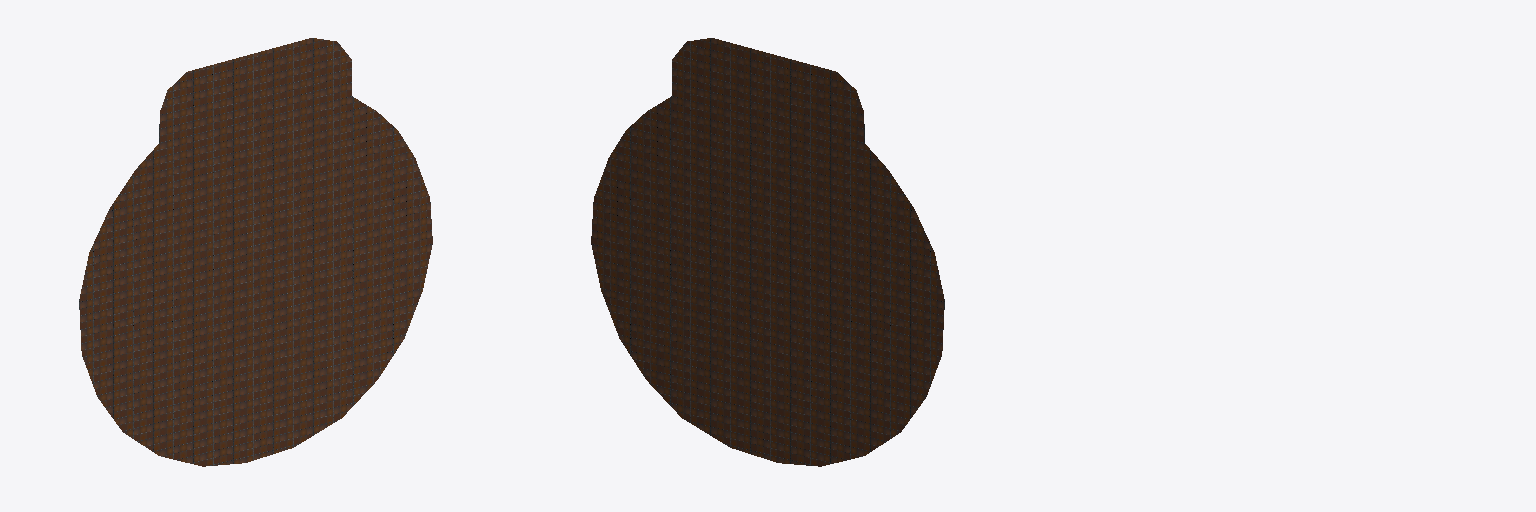
3 renders of one model, left to right at view 1: azimuth 30°, elevation 25°; view 2: azimuth 150°, elevation 25°; view 3: azimuth 270°, elevation 25°, orthographic.
Parts seen in each view (by area): view 1: floor_19; view 2: floor_19; view 3: none.
Part boxes in pixels (bbox=[...]): floor_19: bbox=[79, 38, 432, 466]; floor_19: bbox=[591, 38, 944, 466].
Bounding box in the file's own units: 26.48 × 29.28 × 0.1.
Materials: 1 (1 with a texture image).